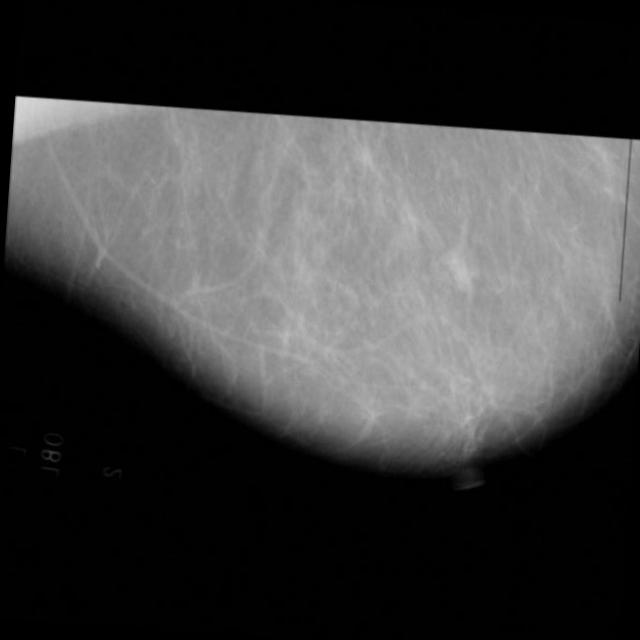ASYM: (436, 244, 482, 290)
